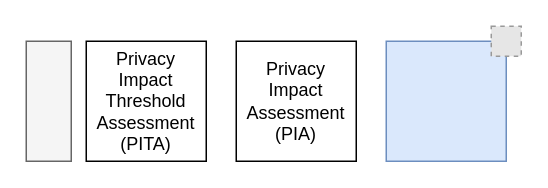
Image size: 548x188. Some labels were removed from this diagram. Grey dashed boxes stand in for pictures. The box of each missing label's shape, as (x1, y1, x2, y2) in pixels:
Privacy Office Endorsement @ CAB: (385, 40, 506, 161)
Privacy Office Orchestration: (25, 40, 71, 161)
